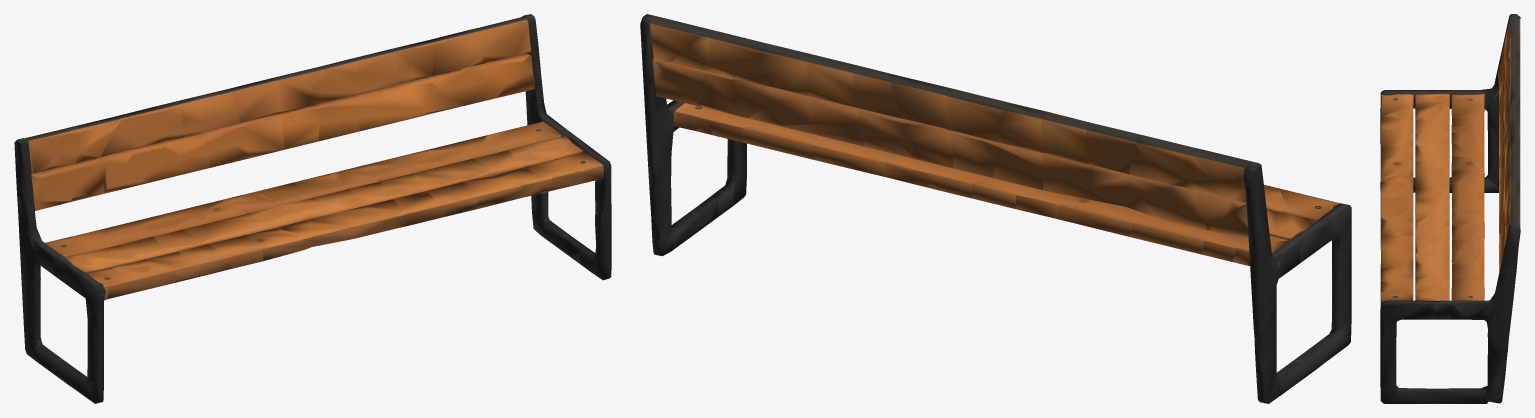
File: benchw_lod1.glb
The picture shows the model from 3 angles, left to right: view 1: azimuth 30°, elevation 25°; view 2: azimuth 150°, elevation 25°; view 3: azimuth 270°, elevation 25°; orthographic projection. The views are drawn at different scales.
Visible parts, largest first — view 1: mesh_node; view 2: mesh_node; view 3: mesh_node.
Part boxes in pixels (x1,y1,x2,y2): mesh_node: (14,14,611,403); mesh_node: (640,14,1351,403); mesh_node: (1380,14,1520,403).
Size of the model in its own units: 1.9 by 0.7332 by 0.528.
1 material, 1 textured.
